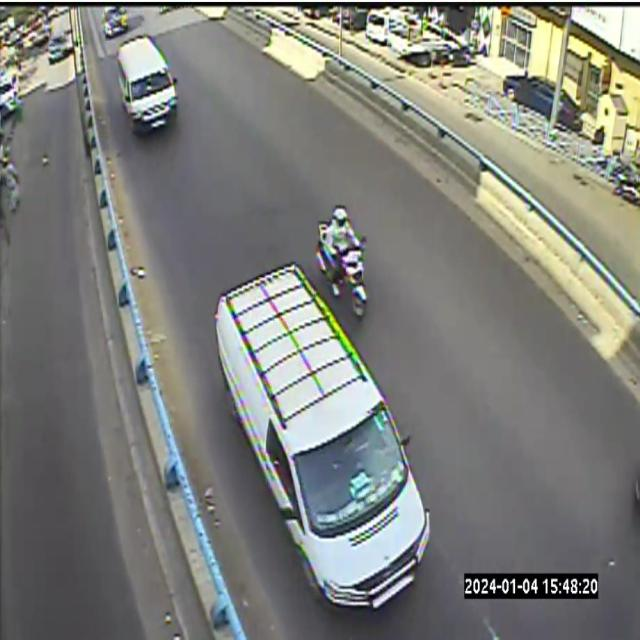car: (106, 33, 189, 151), (119, 36, 176, 131)
